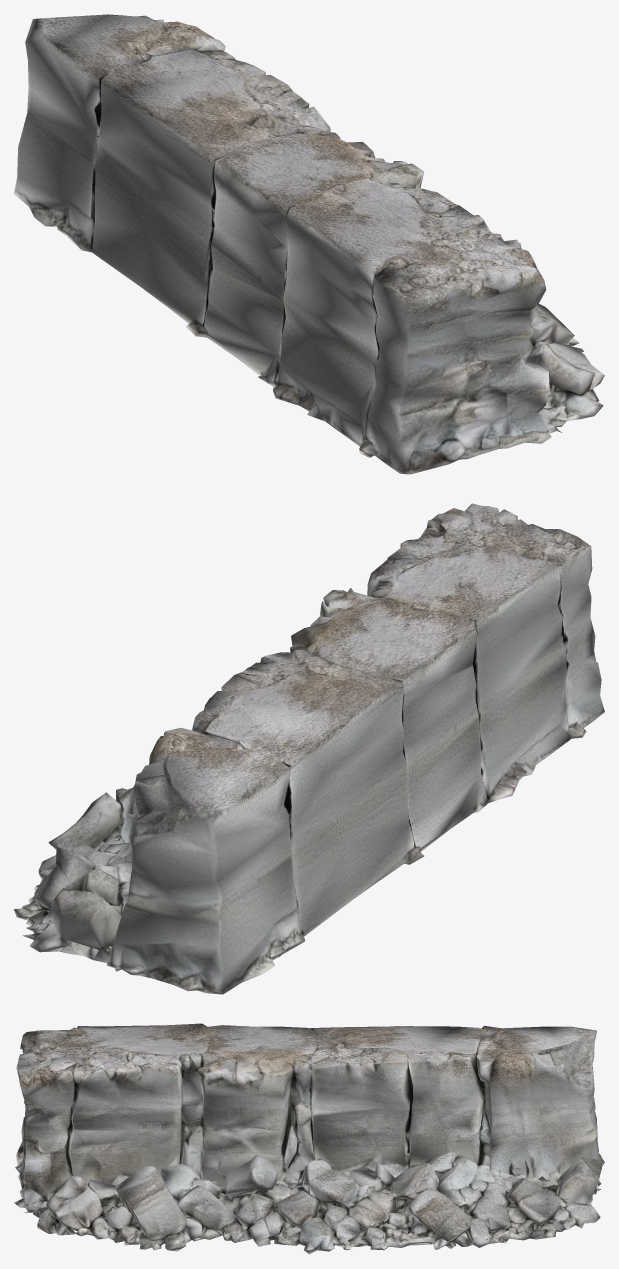
Rendered from rock-ice-scarp.glb.
3 renders of one model, top to bottom at view 1: azimuth 30°, elevation 25°; view 2: azimuth 150°, elevation 25°; view 3: azimuth 270°, elevation 25°, orthographic. The views are drawn at different scales.
Visible parts, largest first — view 1: lod0; view 2: lod0; view 3: lod0.
Boxes of the visible parts, x1=… form: lod0: x1=14, y1=14, x2=604, y2=474; lod0: x1=14, y1=503, x2=604, y2=994; lod0: x1=14, y1=1023, x2=604, y2=1254.
Size of what is drawn, in the model's own units: 0.429 by 0.262 by 0.9987.
1 material, 1 textured.
